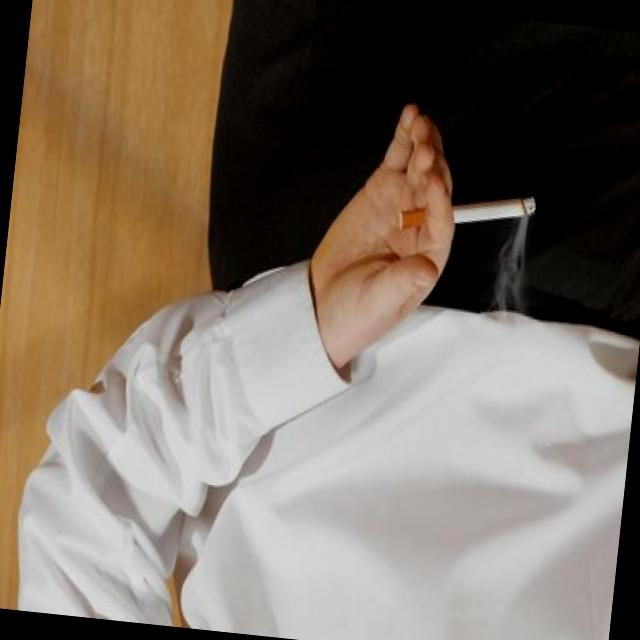smoke: (390, 170, 544, 262)
